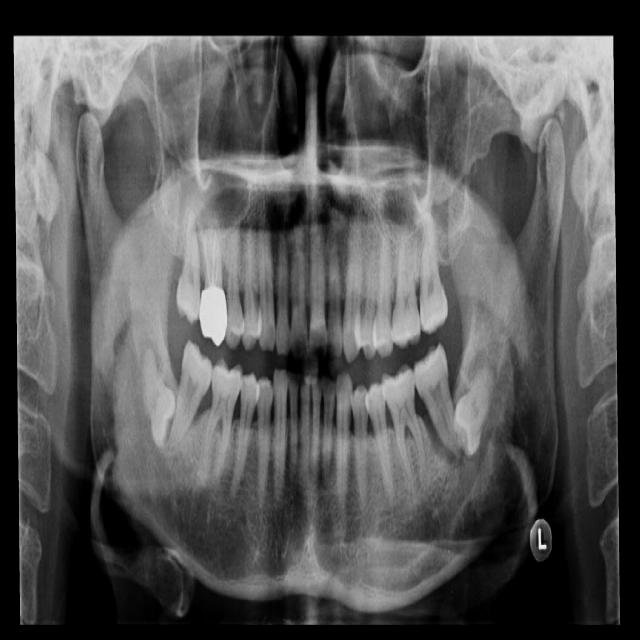Crown: (199, 287, 227, 347)
Periapical lesion: (219, 469, 245, 511), (465, 435, 490, 469), (318, 452, 336, 491), (449, 446, 465, 465)
Root Canal Treatment: (204, 231, 211, 286), (212, 232, 216, 286), (216, 241, 219, 283)
impacted tooth: (453, 357, 494, 454), (140, 345, 175, 445)
